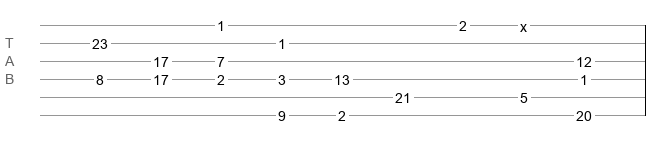1: (217, 18, 225, 28), (278, 36, 286, 46), (580, 72, 588, 82)
12: (576, 54, 592, 64)
13: (334, 72, 350, 82)
17: (153, 54, 169, 64), (153, 72, 169, 82)
2: (217, 72, 225, 82), (338, 108, 346, 118), (459, 18, 467, 28)
20: (576, 108, 592, 118)
21: (395, 90, 411, 100)
23: (92, 36, 108, 46)
3: (278, 72, 286, 82)
5: (520, 90, 528, 100)
7: (217, 54, 225, 64)
8: (96, 72, 104, 82)
9: (278, 108, 286, 118)
x: (520, 19, 527, 27)
